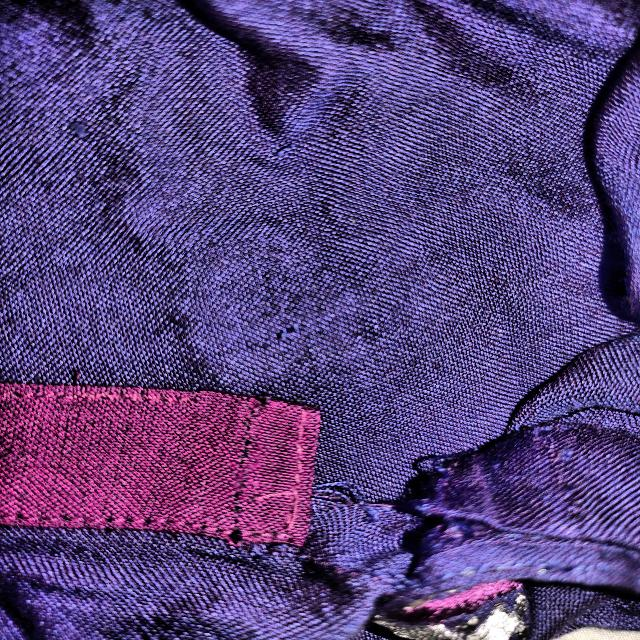seam: (256, 407, 509, 598)
